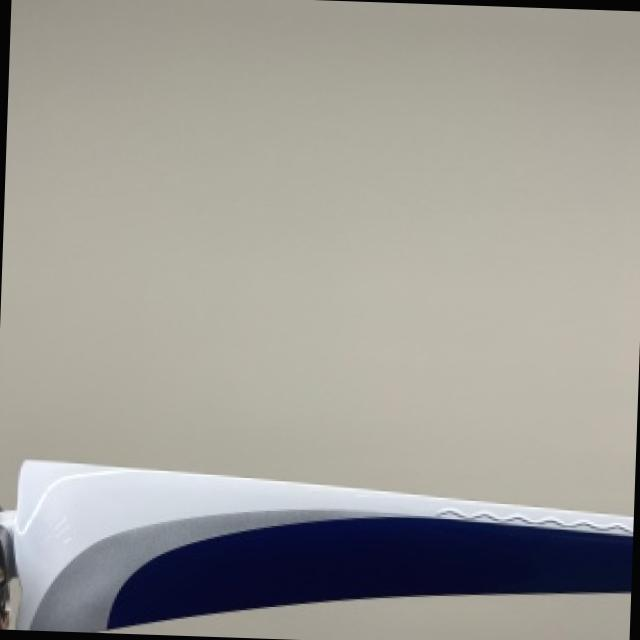healthy: (0, 458, 631, 630)
